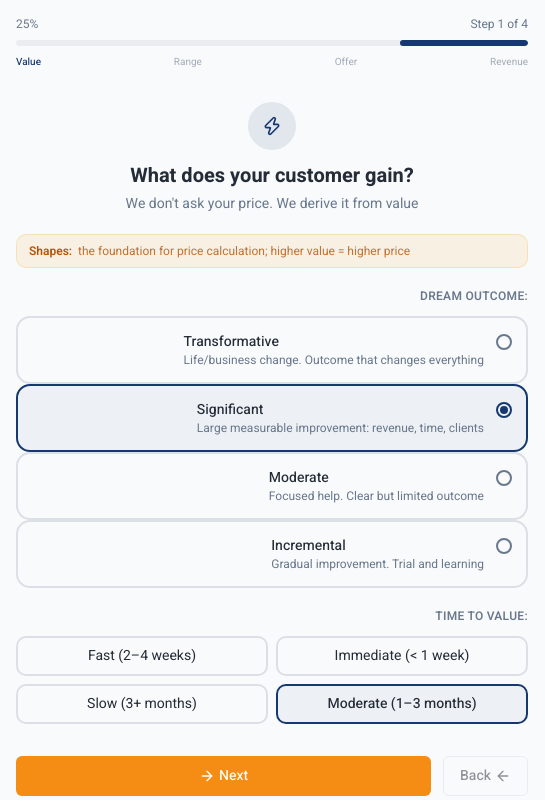
Test: PricingWizard › advances to step 2 when Next is clicked on step 1
Click the button "Next".
click(224, 776)  # box [16, 756, 431, 796]
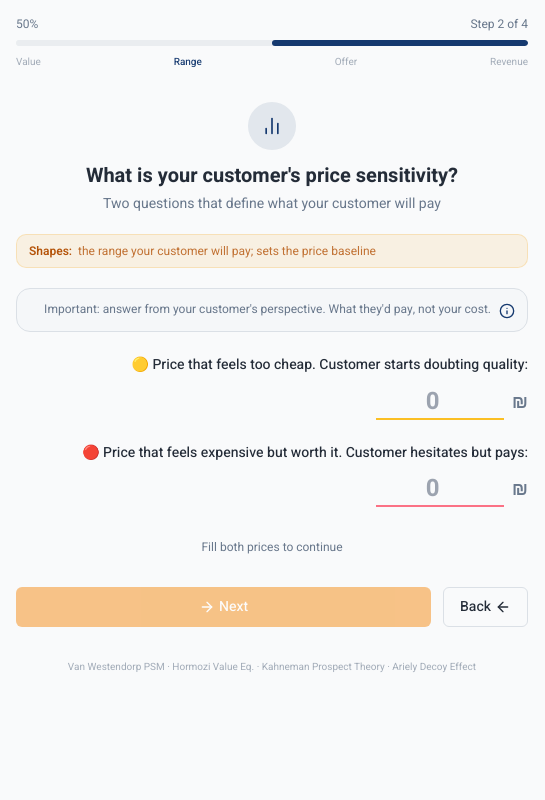
Result: the text "Step 2 of 4" is shown at [470, 16, 528, 32]
